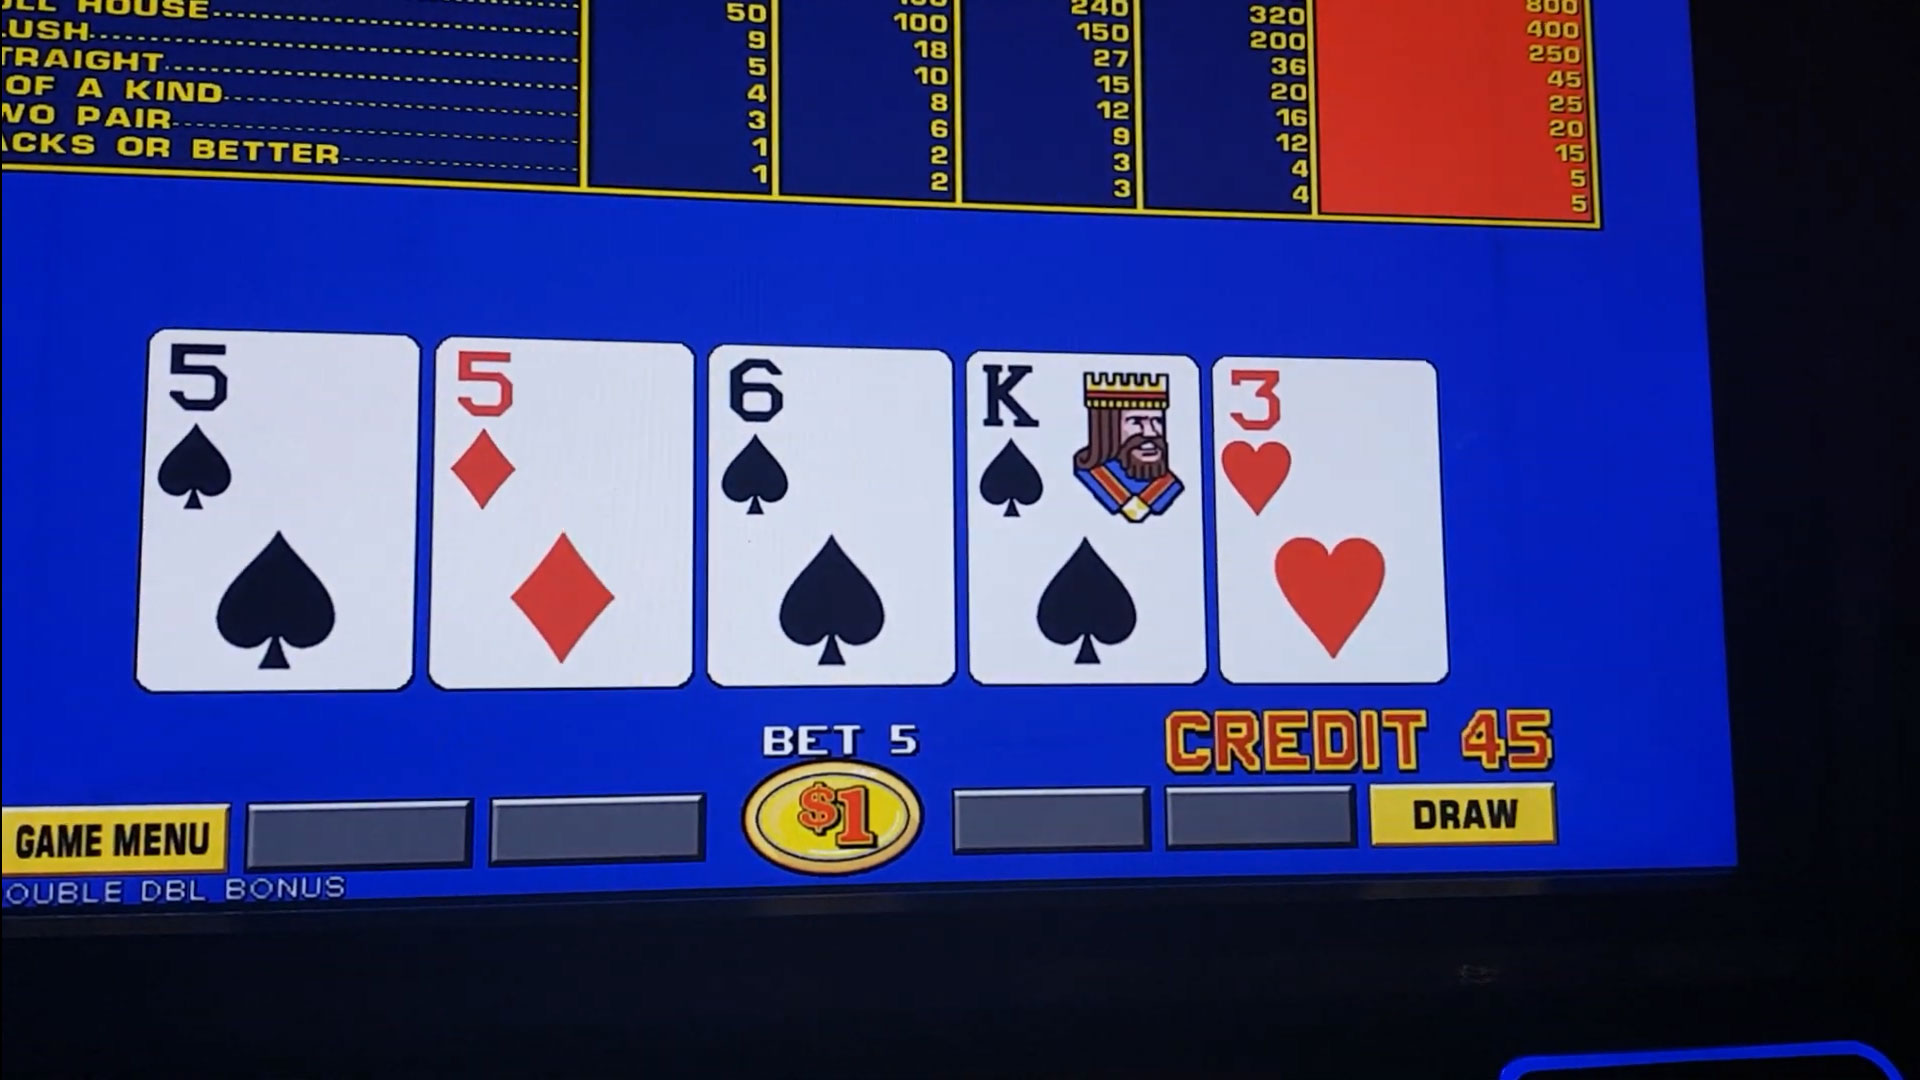D5: (442, 344, 688, 522)
H3: (1217, 365, 1432, 522)
S5: (154, 340, 413, 521)
S6: (715, 353, 943, 524)
SK: (973, 357, 1199, 530)
